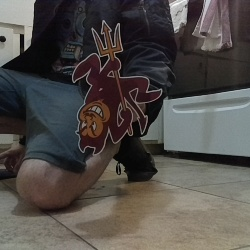sparky: (71, 19, 163, 156)
